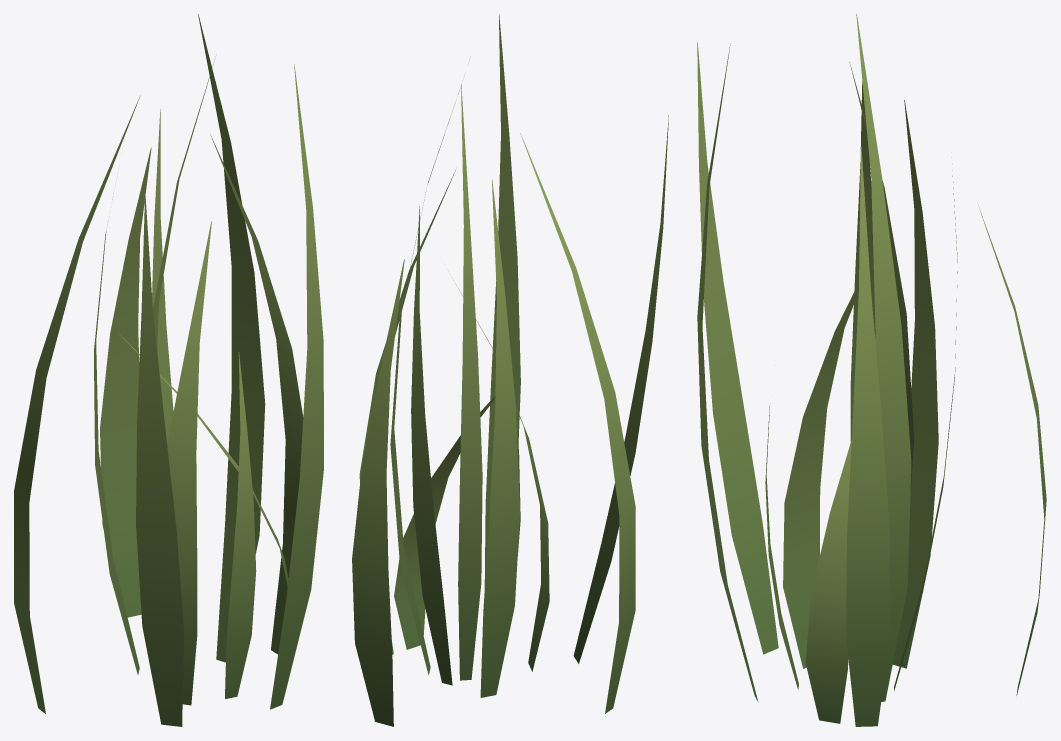
File: Grass_Tuft_03.glb
The picture shows the model from 3 angles, left to right: view 1: azimuth 30°, elevation 25°; view 2: azimuth 150°, elevation 25°; view 3: azimuth 270°, elevation 25°; orthographic projection. The views are drawn at different scales.
Visible parts, largest first — view 1: Grass_Tuft_03; view 2: Grass_Tuft_03; view 3: Grass_Tuft_03.
Part boxes in pixels (box(x1,y1,x2,y2)): Grass_Tuft_03: box(14, 14, 323, 726); Grass_Tuft_03: box(352, 14, 668, 726); Grass_Tuft_03: box(697, 14, 1046, 726).
Size of the model in its own units: 0.1976 by 0.4508 by 0.2126.
